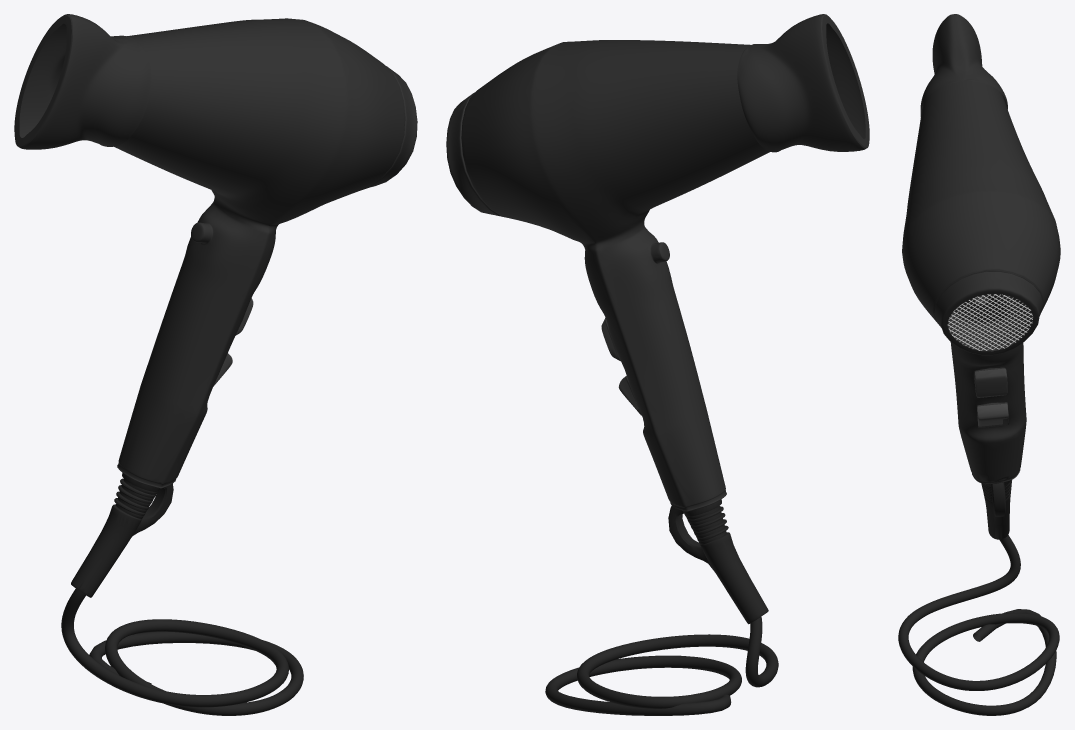
File: hairdryer.glb
3 views of the same model, side by side, from view 1: azimuth 30°, elevation 25°; view 2: azimuth 150°, elevation 25°; view 3: azimuth 270°, elevation 25° (orthographic). The views are drawn at different scales.
Parts seen in each view (by area): view 1: hair_dryer_Hair_Dryer_BLACK_0, hair_dryer_Hair_Dryer_Grid_METAL_0, hair_dryer_Hair_Dryer_Nozzle_PLASTIC_0; view 2: hair_dryer_Hair_Dryer_BLACK_0, hair_dryer_Hair_Dryer_Grid_METAL_0, hair_dryer_Hair_Dryer_Nozzle_PLASTIC_0; view 3: hair_dryer_Hair_Dryer_BLACK_0, hair_dryer_Hair_Dryer_Grid_METAL_0, hair_dryer_Hair_Dryer_Nozzle_PLASTIC_0.
Boxes of the visible parts, <box> form: hair_dryer_Hair_Dryer_BLACK_0: <box>114,18,417,488</box>; hair_dryer_Hair_Dryer_Grid_METAL_0: <box>61,298,303,715</box>; hair_dryer_Hair_Dryer_Nozzle_PLASTIC_0: <box>14,14,151,149</box>; hair_dryer_Hair_Dryer_BLACK_0: <box>446,40,770,511</box>; hair_dryer_Hair_Dryer_Grid_METAL_0: <box>545,320,778,715</box>; hair_dryer_Hair_Dryer_Nozzle_PLASTIC_0: <box>737,14,869,152</box>; hair_dryer_Hair_Dryer_BLACK_0: <box>902,81,1060,483</box>; hair_dryer_Hair_Dryer_Grid_METAL_0: <box>898,294,1059,715</box>; hair_dryer_Hair_Dryer_Nozzle_PLASTIC_0: <box>920,14,1007,117</box>.
Size of the model in its own units: 1.97 by 3.44 by 0.8383.
Materials: 3 (3 with a texture image).
